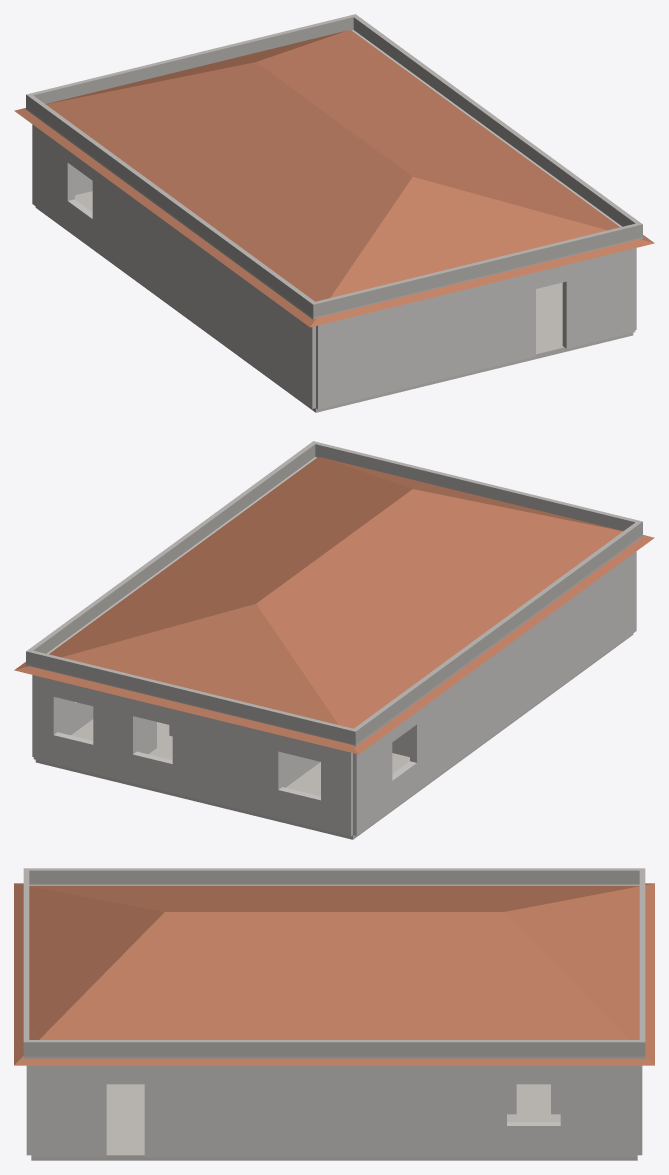
File: plan_658976c2285f.glb
3 views of the same model, one above another, from view 1: azimuth 30°, elevation 25°; view 2: azimuth 150°, elevation 25°; view 3: azimuth 270°, elevation 25° (orthographic). The views are drawn at different scales.
Visible parts, largest first — view 1: roof_tiles, walls, roof_flat, room_living; view 2: roof_tiles, walls, roof_flat, room_master, room_bedroom_3, room_bedroom_2; view 3: roof_tiles, walls, roof_flat, room_living, room_bedroom_3, room_bedroom_2, room_utility.
Part boxes in pixels (<box>): roof_tiles: <box>14,30,654,327</box>; walls: <box>32,124,636,409</box>; roof_flat: <box>26,14,642,319</box>; room_living: <box>465,282,633,376</box>; roof_tiles: <box>14,457,654,754</box>; walls: <box>32,551,636,836</box>; roof_flat: <box>26,441,642,746</box>; room_master: <box>250,753,448,839</box>; room_bedroom_3: <box>35,719,170,781</box>; room_bedroom_2: <box>115,736,194,800</box>; roof_tiles: <box>14,883,654,1065</box>; walls: <box>26,1065,642,1157</box>; roof_flat: <box>23,868,645,1058</box>; room_living: <box>31,1084,219,1160</box>; room_bedroom_3: <box>430,1113,637,1160</box>; room_bedroom_2: <box>516,1084,550,1113</box>; room_utility: <box>220,1157,429,1160</box>.
Size of the model in its own units: 11.26 by 4.75 by 16.75.
